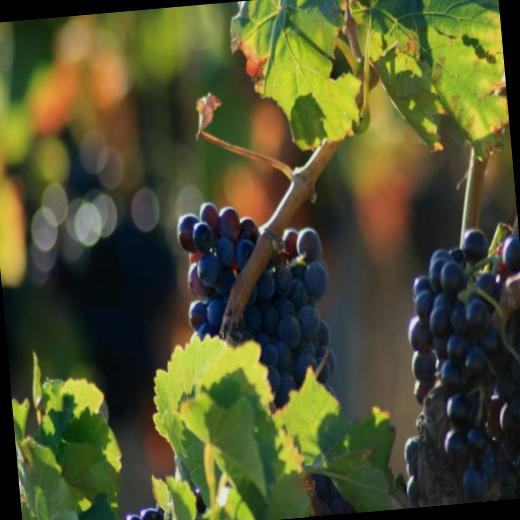Orange: (173, 191, 354, 520), (380, 222, 520, 508), (139, 506, 164, 520), (125, 515, 140, 520)
